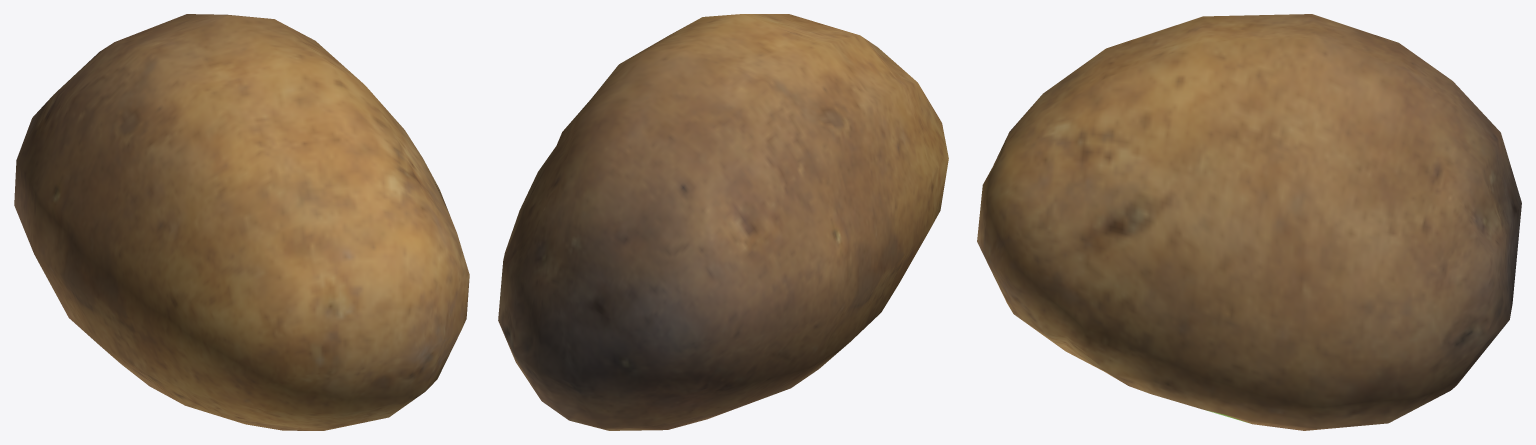
File: pg_Potato_03.fbx
3 views of the same model, side by side, from view 1: azimuth 30°, elevation 25°; view 2: azimuth 150°, elevation 25°; view 3: azimuth 270°, elevation 25° (orthographic). The views are drawn at different scales.
Visible parts, largest first — view 1: pg_Potato_03_a_LOD0; view 2: pg_Potato_03_a_LOD0; view 3: pg_Potato_03_a_LOD0.
Part boxes in pixels (x1,y1,x2,y2): pg_Potato_03_a_LOD0: (14, 14, 469, 430); pg_Potato_03_a_LOD0: (498, 14, 948, 430); pg_Potato_03_a_LOD0: (977, 14, 1521, 430).
Size of what is drawn, in the model's own units: 7.31 by 7.98 by 10.74.
